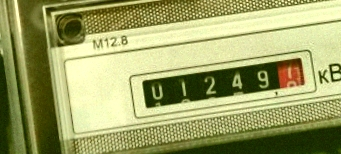0: (148, 79, 165, 100)
1: (175, 75, 190, 98)
2: (200, 72, 219, 96)
4: (229, 68, 244, 90)
7: (282, 57, 297, 79)
9: (255, 66, 271, 89)
screen: (125, 44, 321, 120)
